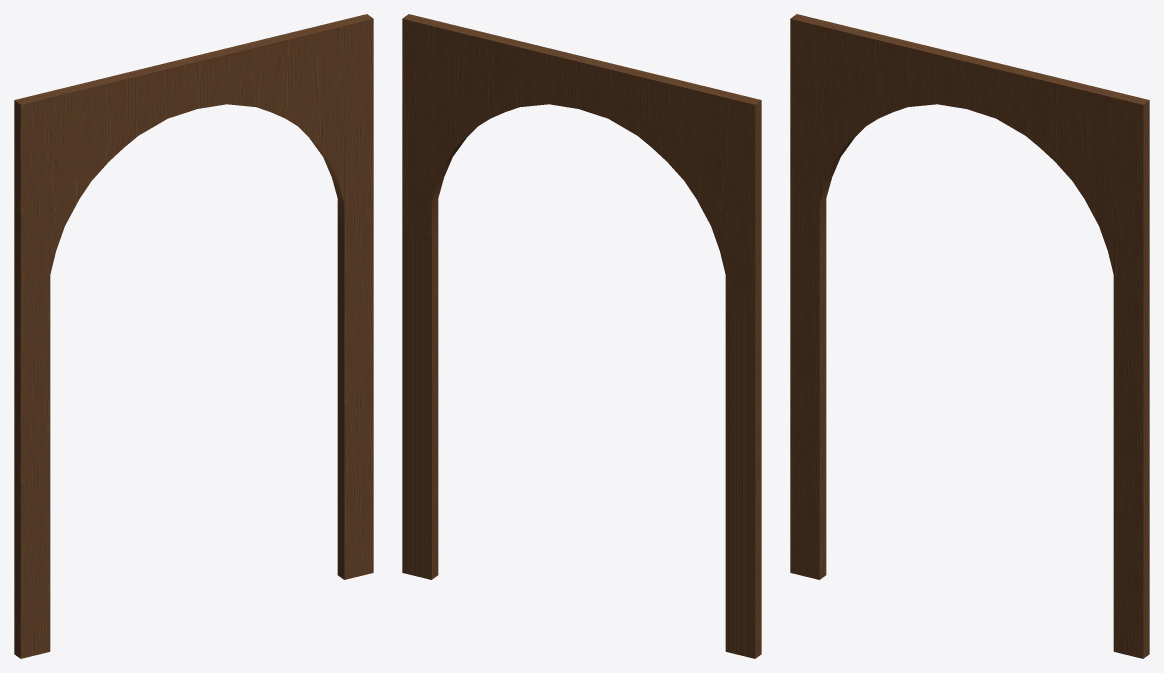
Rendered from Wall_Arch.gltf.
3 views of the same model, side by side, from view 1: azimuth 30°, elevation 25°; view 2: azimuth 150°, elevation 25°; view 3: azimuth 330°, elevation 25° (orthographic).
Visible parts, largest first — view 1: Wall_Arch; view 2: Wall_Arch; view 3: Wall_Arch.
Part boxes in pixels (x1,y1,x2,y2): Wall_Arch: [14, 14, 373, 658]; Wall_Arch: [402, 14, 761, 658]; Wall_Arch: [790, 14, 1149, 658].
Size of the model in its own units: 2 by 3 by 0.064.
1 material, 1 textured.
